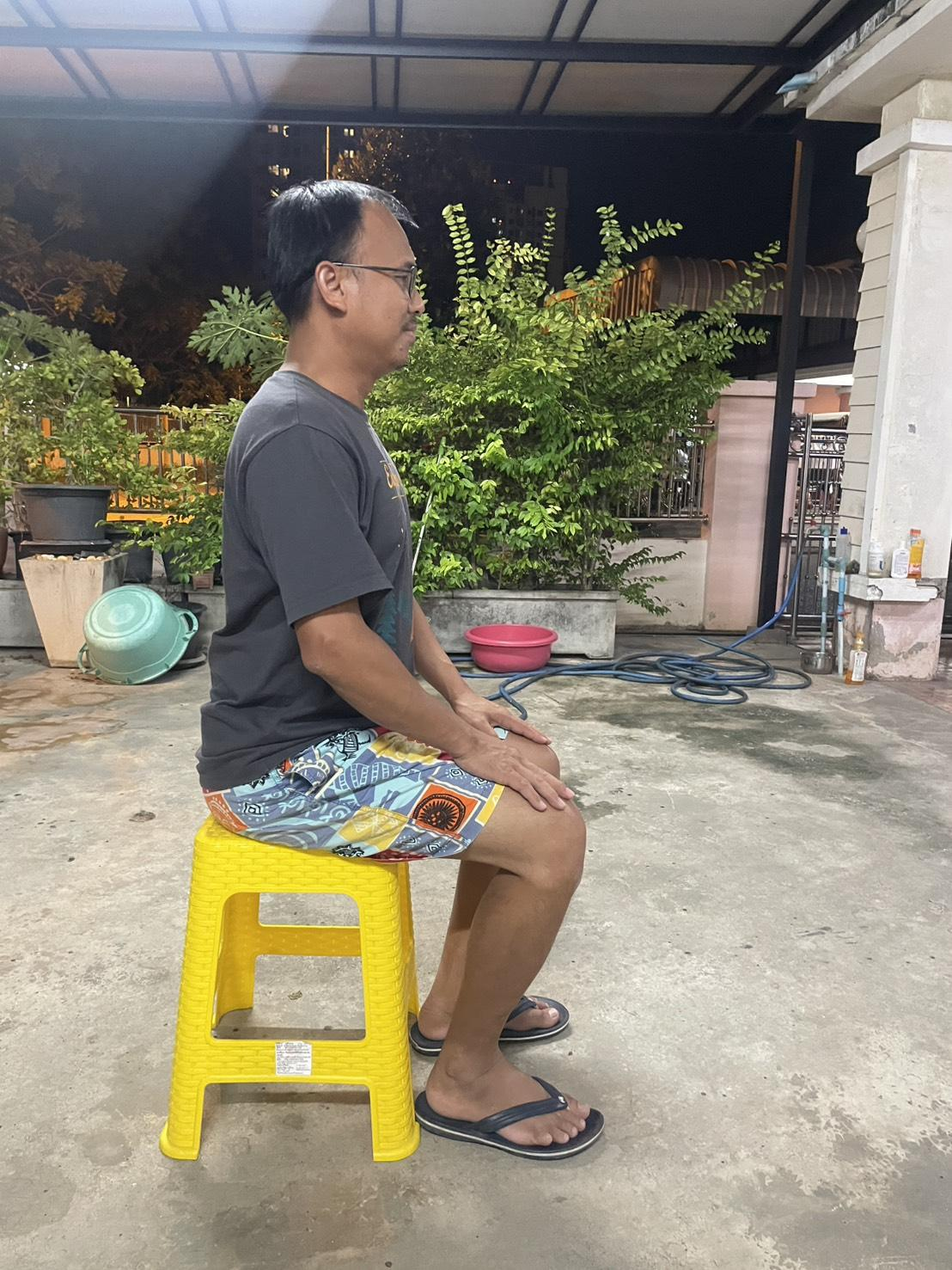GoodPosture: (198, 181, 602, 1160)
